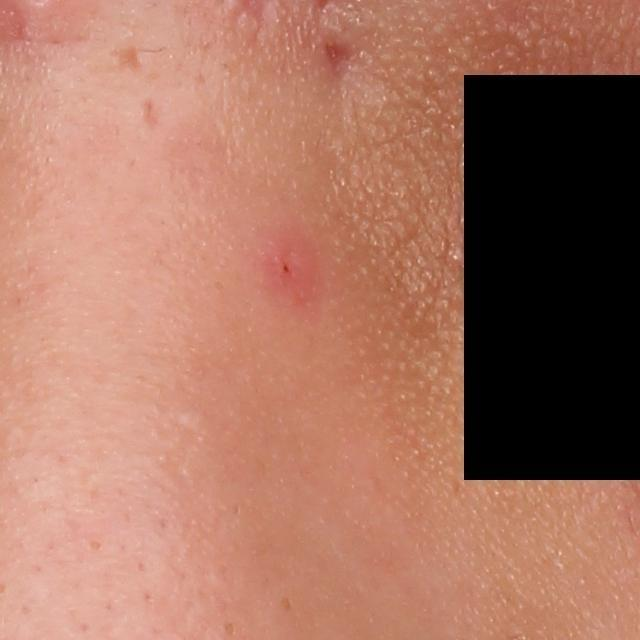atrophic_scar: (106, 35, 146, 75), (135, 93, 162, 135), (322, 43, 351, 82)
papule: (258, 223, 332, 300)
